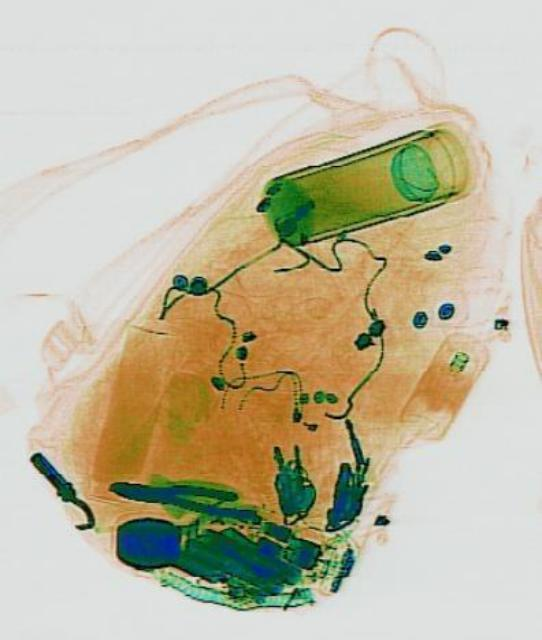Pliers: (106, 466, 263, 522)
